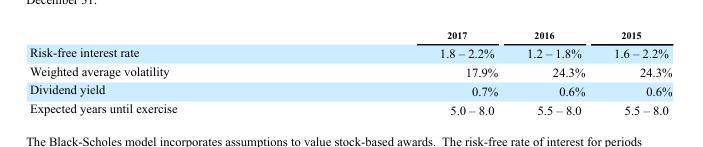table: (28, 29, 671, 116)
table column: (28, 29, 307, 116), (307, 29, 511, 116), (511, 29, 598, 116), (598, 29, 671, 116)
table column header: (28, 29, 671, 42)
table row: (28, 42, 671, 61), (28, 61, 671, 80), (28, 80, 671, 99), (28, 99, 671, 116), (28, 29, 671, 42)
